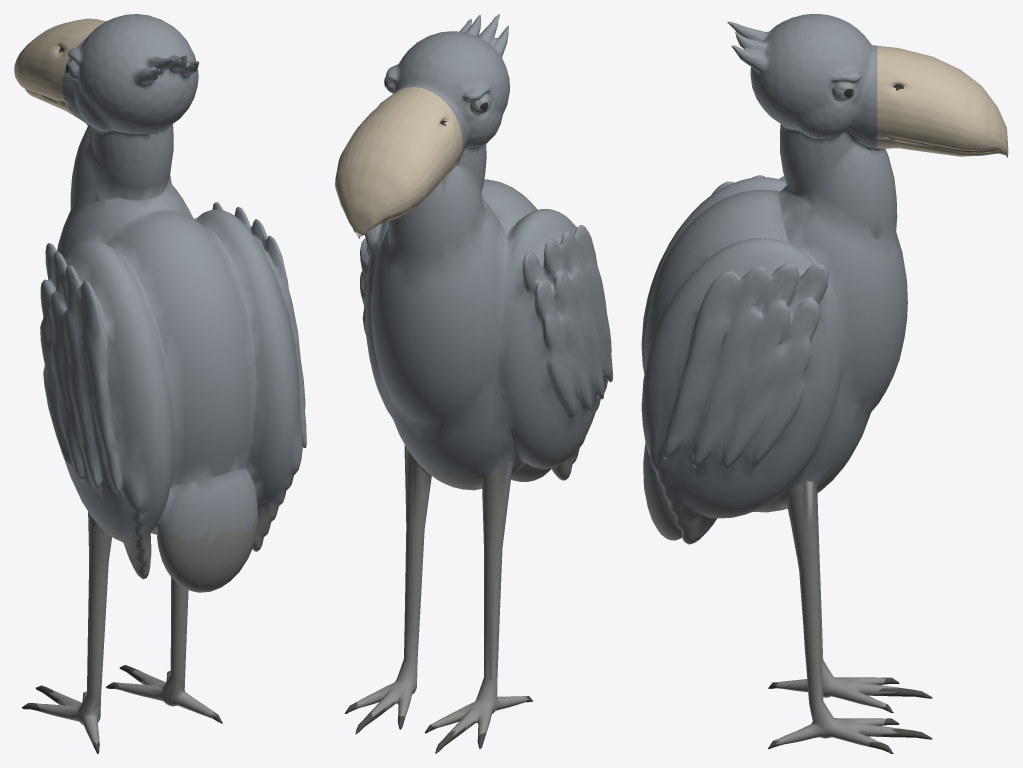
Rendered from NEW443_Shoebill_LOD2.glb.
3 renders of one model, left to right at view 1: azimuth 30°, elevation 25°; view 2: azimuth 150°, elevation 25°; view 3: azimuth 270°, elevation 25°, orthographic. The views are drawn at different scales.
Visible parts, largest first — view 1: Shoebill_Complete_Skin_LOD2; view 2: Shoebill_Complete_Skin_LOD2; view 3: Shoebill_Complete_Skin_LOD2.
Boxes of the visible parts, bbox=[...] form: Shoebill_Complete_Skin_LOD2: bbox=[14, 14, 306, 753]; Shoebill_Complete_Skin_LOD2: bbox=[335, 14, 612, 753]; Shoebill_Complete_Skin_LOD2: bbox=[641, 14, 1008, 753].
Size of the model in its own units: 0.3964 by 1.25 by 0.5945.
